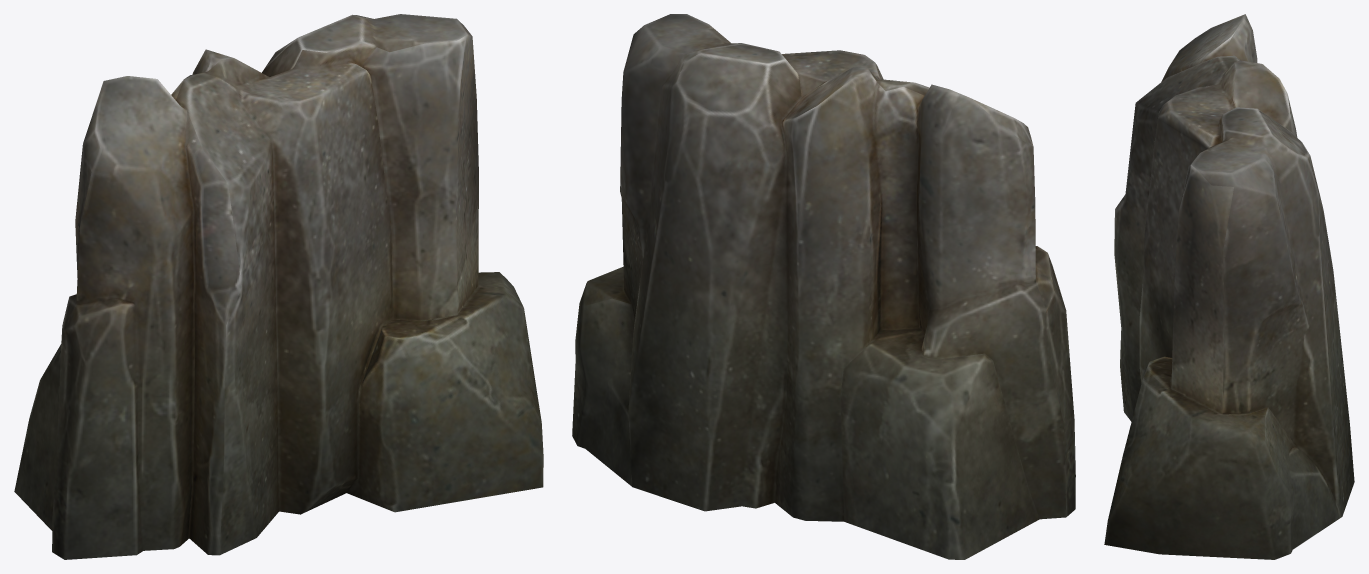
Rendered from rocks1.fbx.
The picture shows the model from 3 angles, left to right: view 1: azimuth 30°, elevation 25°; view 2: azimuth 150°, elevation 25°; view 3: azimuth 270°, elevation 25°; orthographic projection. The views are drawn at different scales.
Parts seen in each view (by area): view 1: rock01; view 2: rock01; view 3: rock01.
Boxes of the visible parts, box(x1,y1,x2,y2) form: rock01: box(14, 14, 543, 559); rock01: box(572, 14, 1075, 559); rock01: box(1104, 14, 1354, 559).
Size of the model in its own units: 509 by 446 by 267.
Materials: 1 (1 with a texture image).
